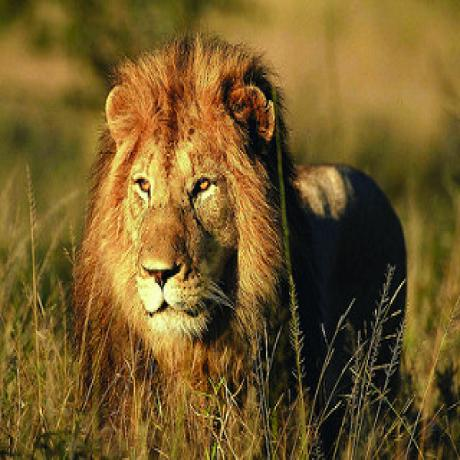Lion: (82, 30, 406, 408)
